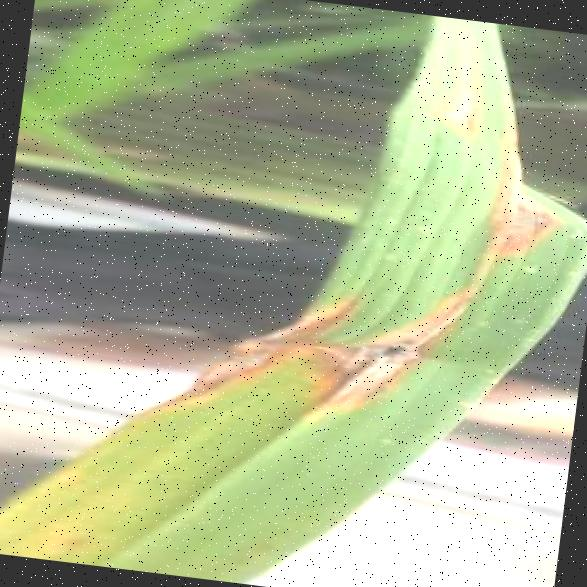Leaf_smut: (173, 238, 376, 410), (322, 252, 496, 440), (467, 119, 587, 278), (419, 30, 502, 134)
